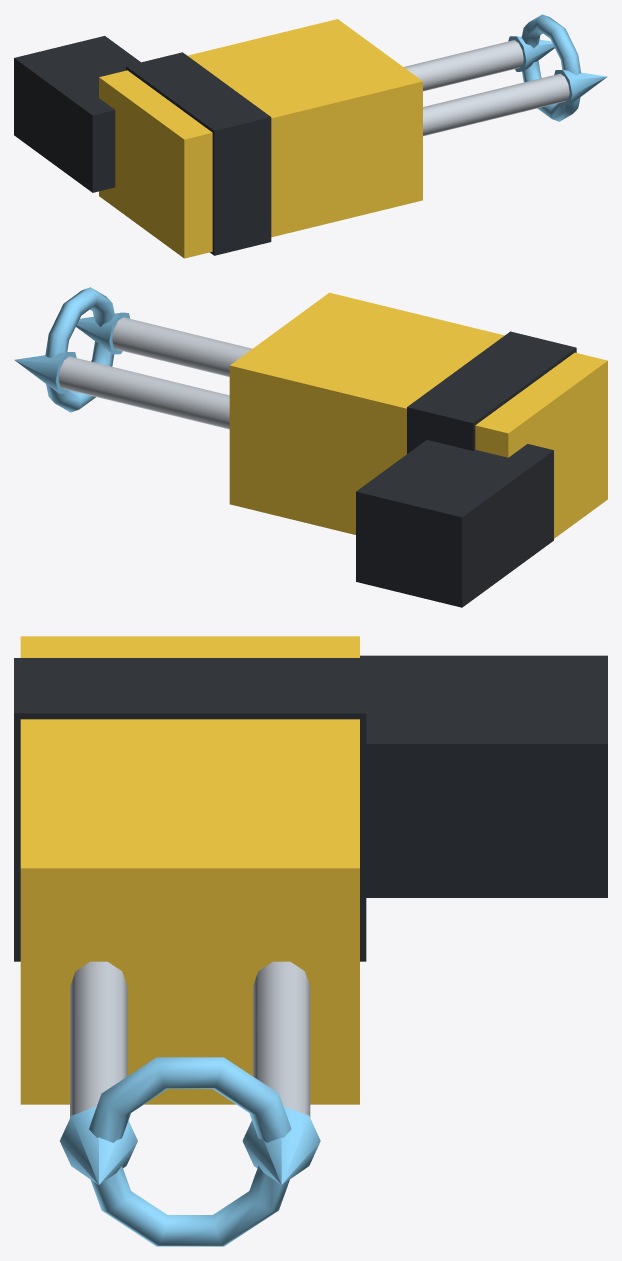
Rendered from taser.glb.
3 views of the same model, one above another, from view 1: azimuth 30°, elevation 25°; view 2: azimuth 150°, elevation 25°; view 3: azimuth 270°, elevation 25° (orthographic). The views are drawn at different scales.
Parts seen in each view (by area): view 1: Body, Taser, Arc; view 2: Body, Taser, Arc; view 3: Body, Taser, Arc.
Part boxes in pixels (<box>): Body: <box>99,19,422,258</box>; Taser: <box>14,36,607,255</box>; Arc: <box>521,14,580,121</box>; Body: <box>229,292,607,538</box>; Taser: <box>14,312,576,607</box>; Arc: <box>45,287,114,412</box>; Body: <box>20,636,359,1104</box>; Taser: <box>14,655,607,1184</box>; Arc: <box>89,1057,291,1246</box>.
Size of the model in its own units: 0.82 by 0.21 by 0.455.
